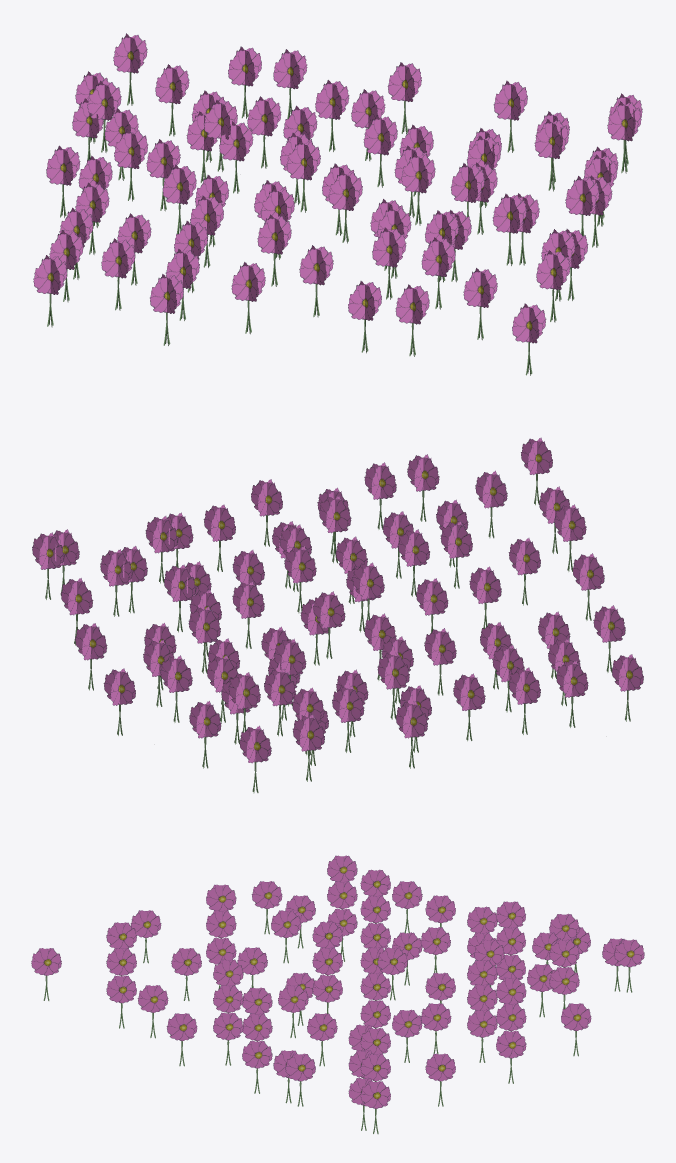
The model's file is flower1.obj.
3 renders of one model, top to bottom at view 1: azimuth 30°, elevation 25°; view 2: azimuth 150°, elevation 25°; view 3: azimuth 270°, elevation 25°, orthographic. The views are drawn at different scales.
Parts seen in each view (by area): view 1: pink; view 2: pink; view 3: pink.
Boxes of the visible parts, bbox=[...] form: pink: bbox=[33, 33, 642, 375]; pink: bbox=[32, 437, 643, 793]; pink: bbox=[31, 855, 644, 1134].
Size of the model in its own units: 9.2 by 1.28 by 9.95.
1 material, 1 textured.
